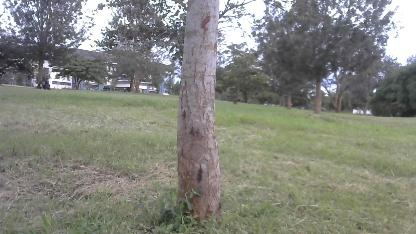tree: (270, 0, 384, 117), (175, 1, 227, 234), (0, 0, 91, 95)
